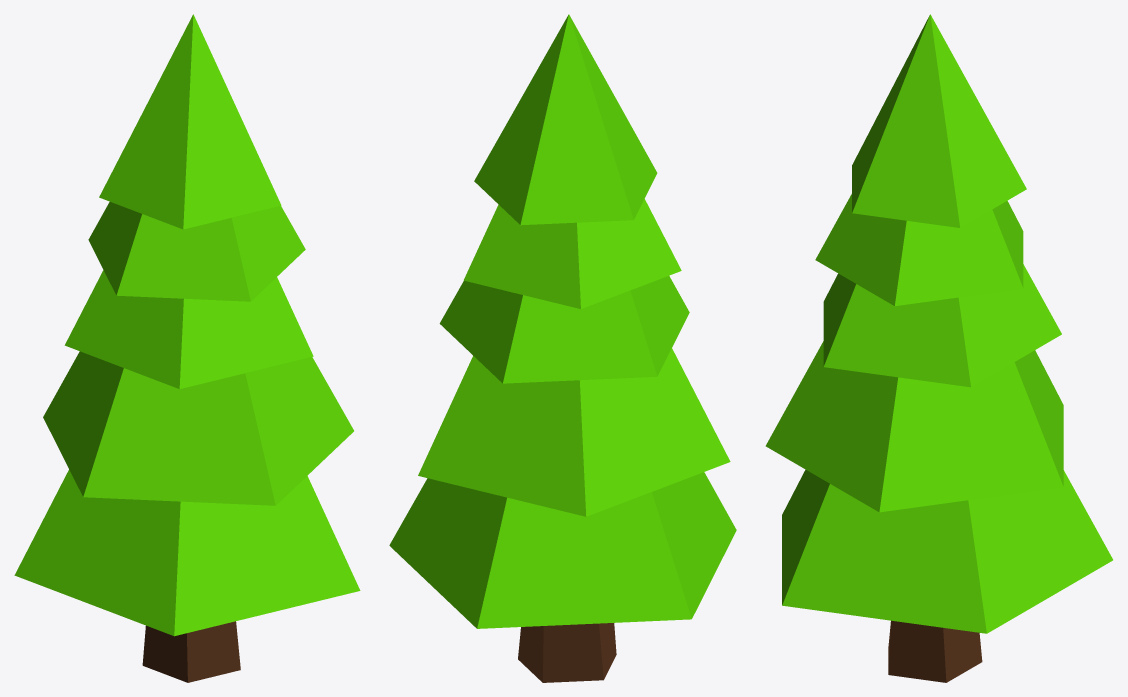
File: tree_2.glb
3 renders of one model, left to right at view 1: azimuth 30°, elevation 25°; view 2: azimuth 150°, elevation 25°; view 3: azimuth 270°, elevation 25°, orthographic.
Parts seen in each view (by area): view 1: Tree_2; view 2: Tree_2; view 3: Tree_2.
Part boxes in pixels (x1,y1,x2,y2): Tree_2: (14,14,360,682); Tree_2: (389,14,736,682); Tree_2: (765,14,1112,682).
Bounding box in the file's own units: 3.35 × 6.87 × 3.34.
